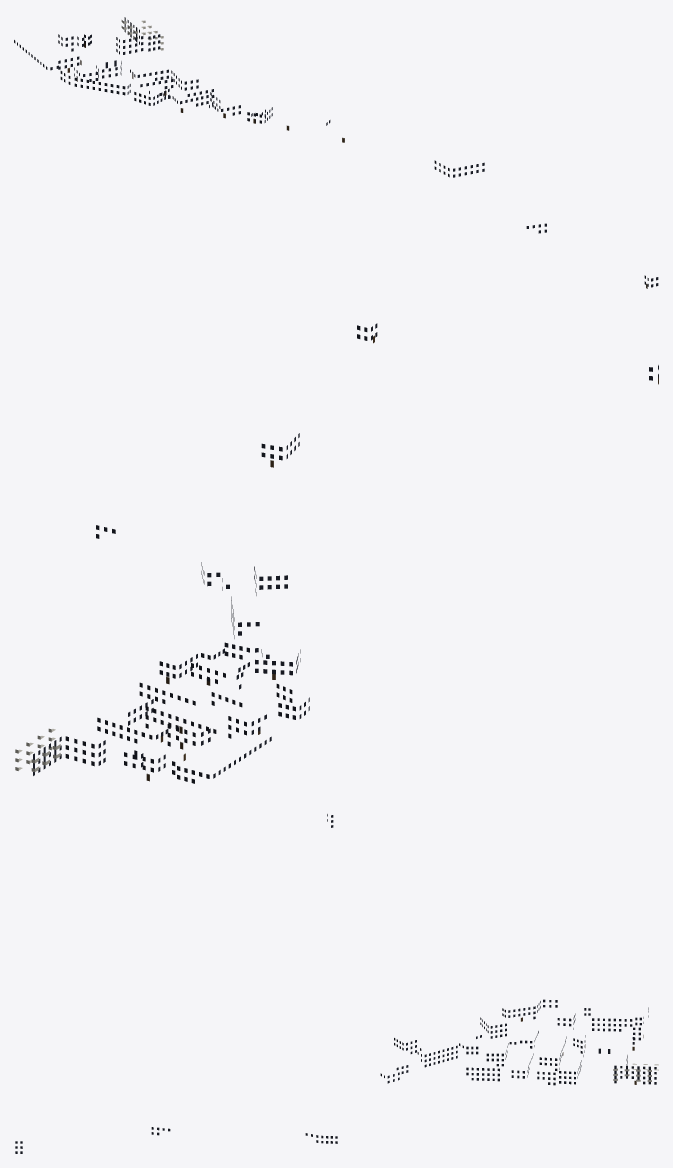
The model's file is facades.glb.
The picture shows the model from 3 angles, top to bottom: view 1: azimuth 30°, elevation 25°; view 2: azimuth 150°, elevation 25°; view 3: azimuth 270°, elevation 25°; orthographic projection. The views are drawn at different scales.
Parts seen in each view (by area): view 1: T_E1_N1_facades; view 2: T_E1_N1_facades; view 3: T_E1_N1_facades.
Part boxes in pixels (bbox=[...]): T_E1_N1_facades: bbox=[14, 17, 658, 288]; T_E1_N1_facades: bbox=[15, 323, 658, 783]; T_E1_N1_facades: bbox=[15, 814, 658, 1153].
Size of the model in its own units: 204 by 108 by 347.
